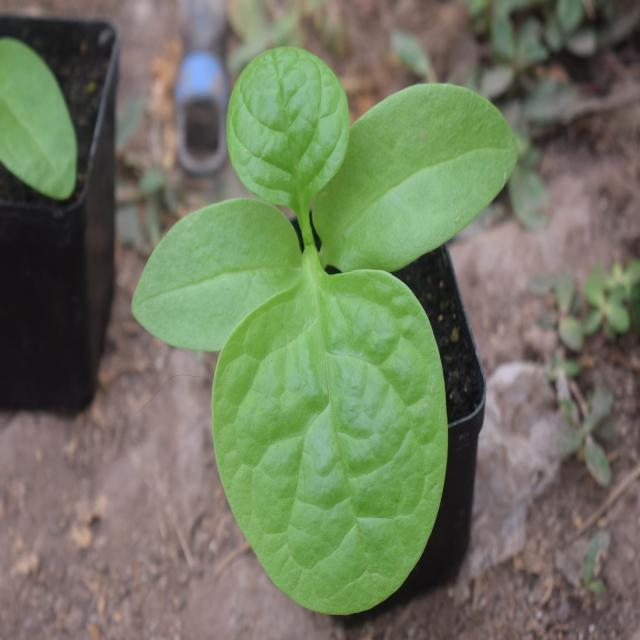Ceylon spinach: (157, 46, 508, 594)
